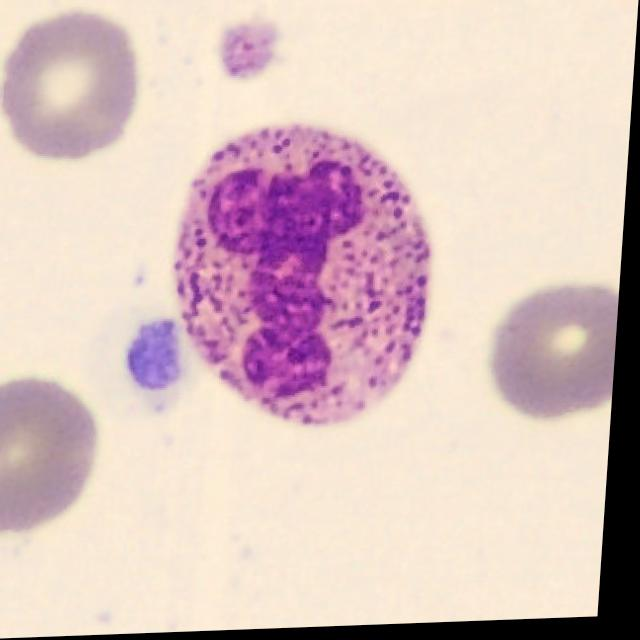Neutrofilo segmentado: (175, 125, 436, 432)
